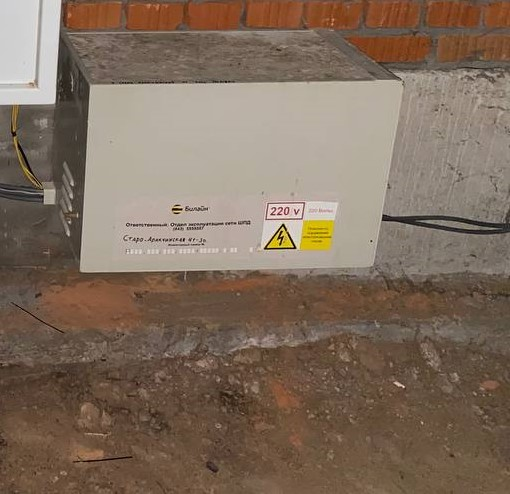sv-5: (34, 16, 409, 277)
